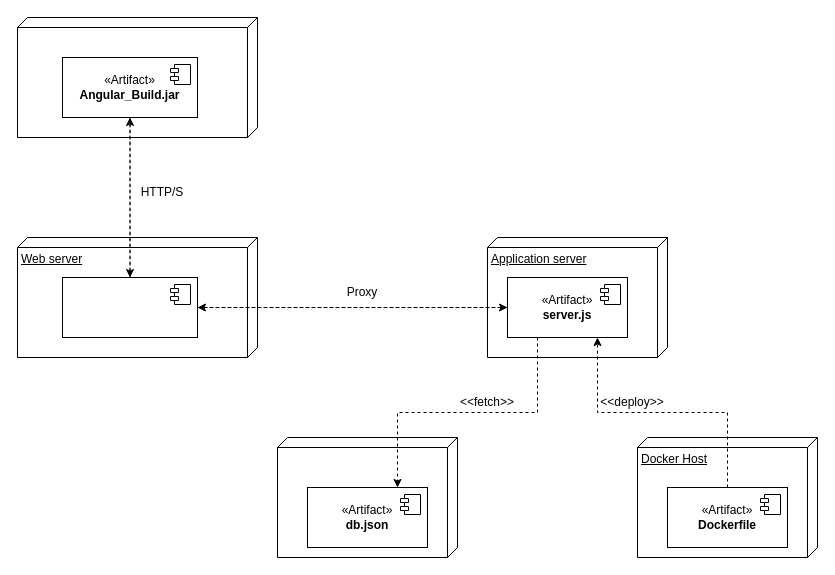
Image size: 835x575. Some labels were removed from this diagram. The shapes that lost their labels are listed below. From the top down, each one's box as (x1, y1, x2, y2) in pixels, then its label:
(16, 16, 258, 138): User device
(62, 276, 198, 338): «Artifact» Apache
(276, 436, 458, 558): Database server
